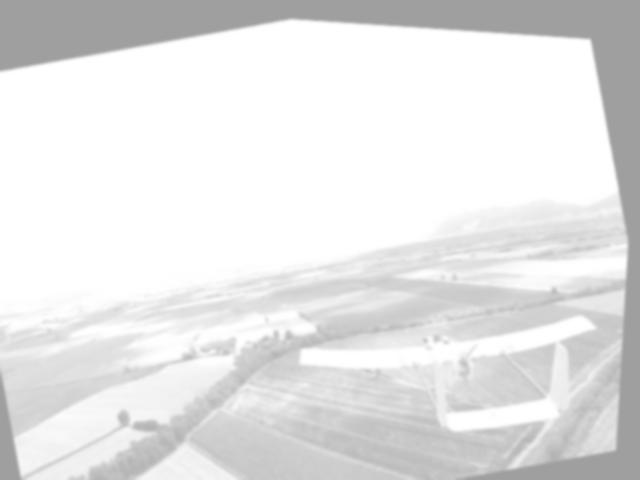hedef: (298, 270, 623, 475)
